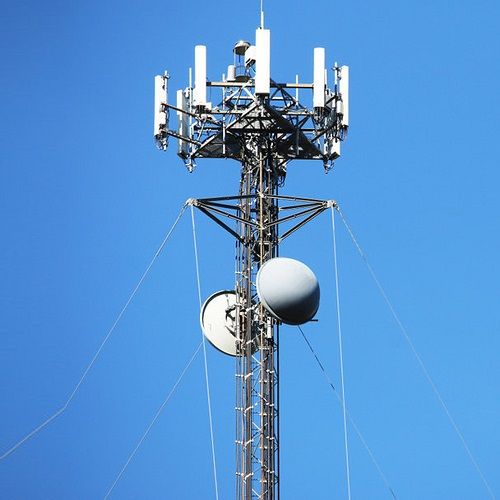sa: (142, 73, 174, 152), (335, 54, 360, 148), (187, 32, 214, 113), (305, 31, 328, 117), (254, 19, 277, 101)
